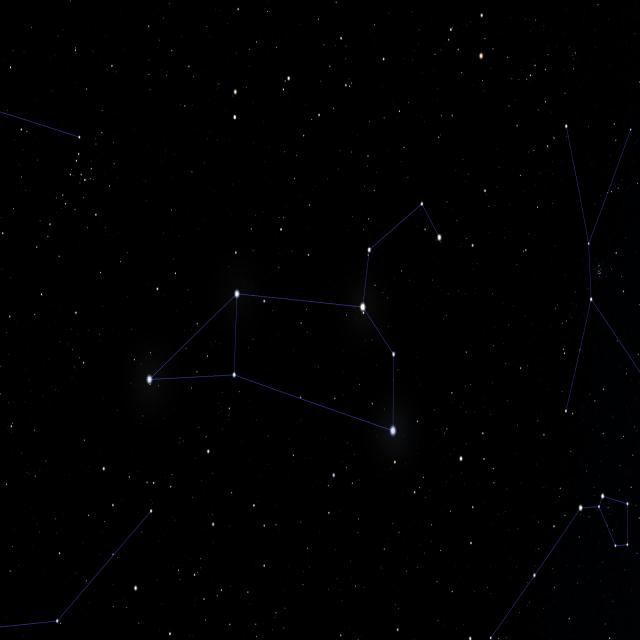Leo: (144, 197, 444, 436)
